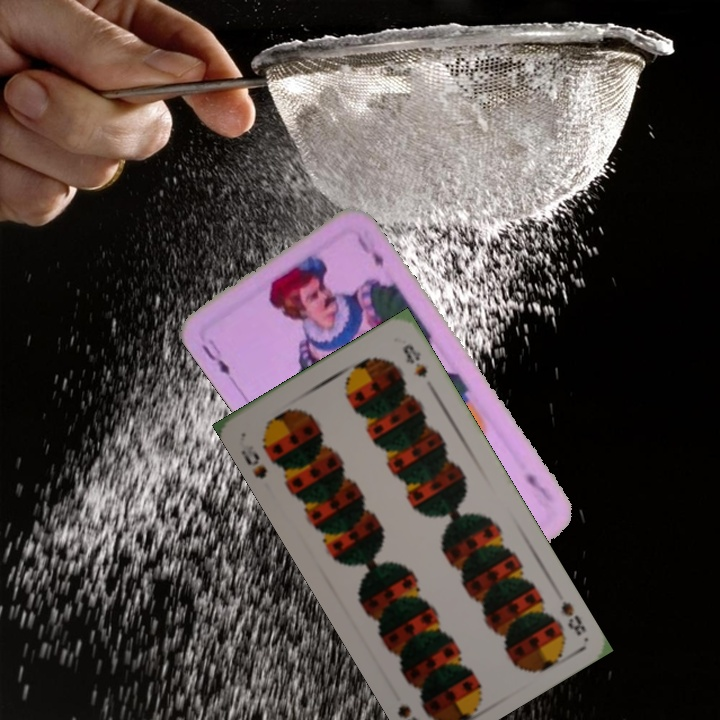EU: (197, 340, 233, 378), (522, 469, 557, 506)
S8: (237, 435, 271, 482), (556, 597, 589, 639)
